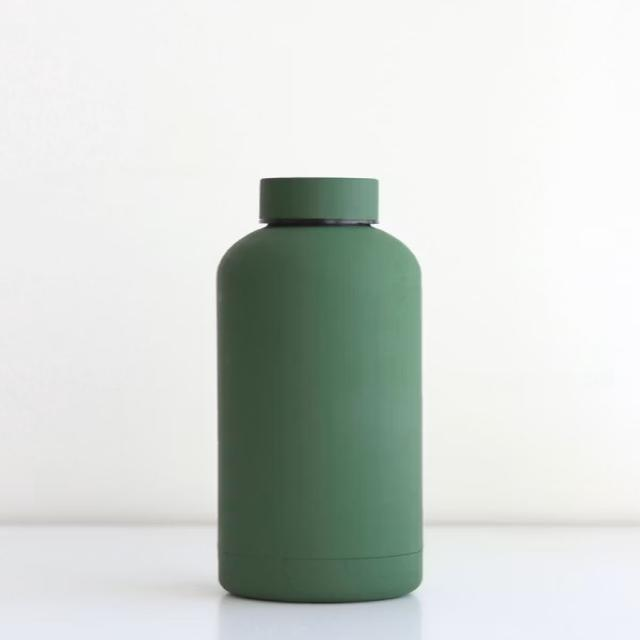Bottle: (218, 178, 422, 602)
